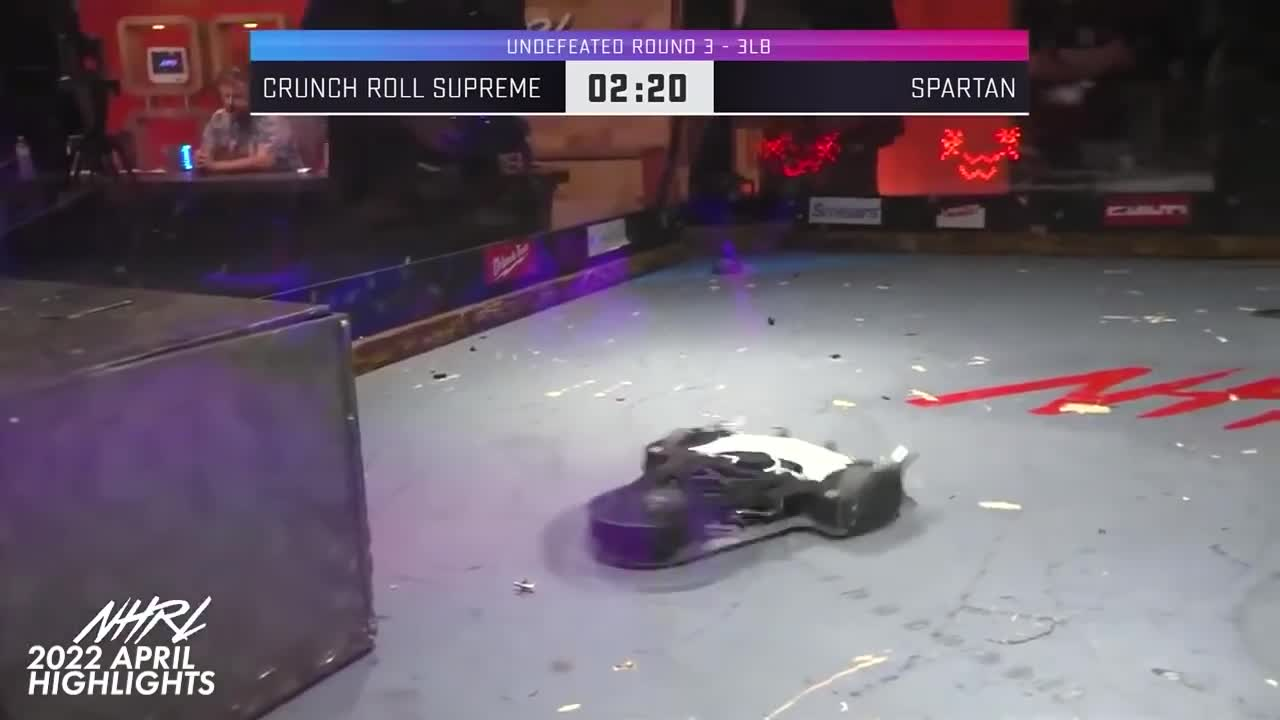combatbot: (585, 423, 904, 569)
debris: (709, 257, 738, 274)
housebot: (0, 277, 379, 720)
